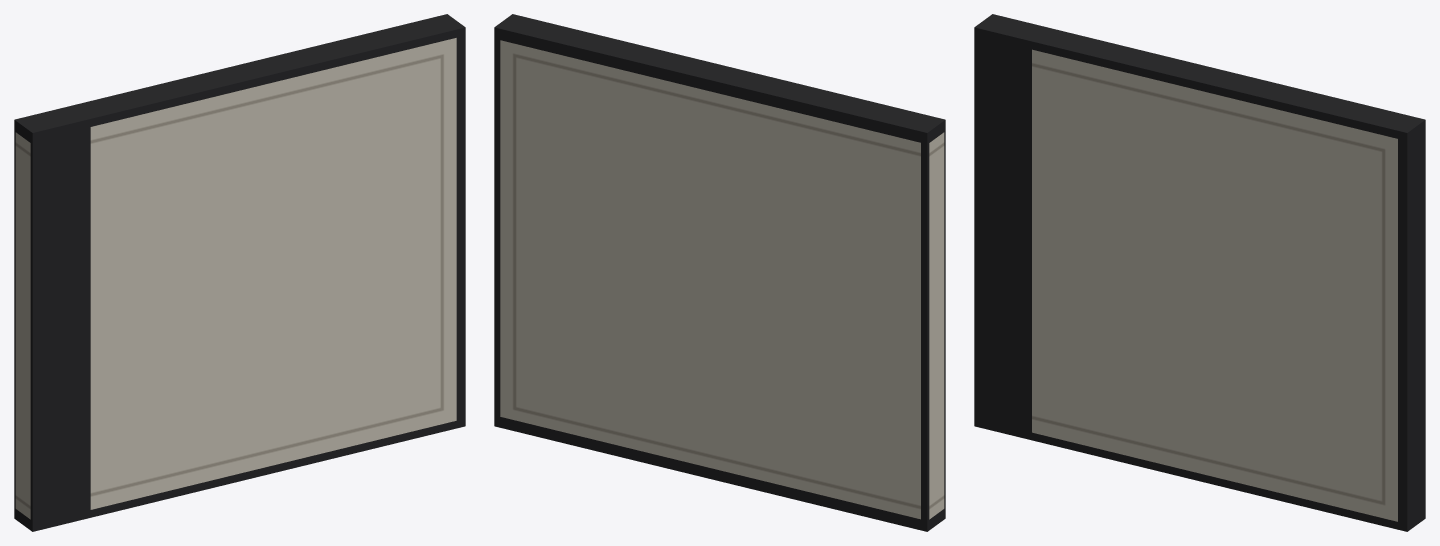
Rendered from jewel_case.glb.
3 renders of one model, left to right at view 1: azimuth 30°, elevation 25°; view 2: azimuth 150°, elevation 25°; view 3: azimuth 330°, elevation 25°, orthographic.
Visible parts, largest first — view 1: jewel_case; view 2: jewel_case; view 3: jewel_case.
Boxes of the visible parts, box(x1,y1,x2,y2) form: jewel_case: box(14, 14, 465, 531); jewel_case: box(494, 14, 945, 531); jewel_case: box(974, 14, 1425, 531).
Size of the model in its own units: 0.1421 by 0.125 by 0.0106.
2 materials, 1 textured.
